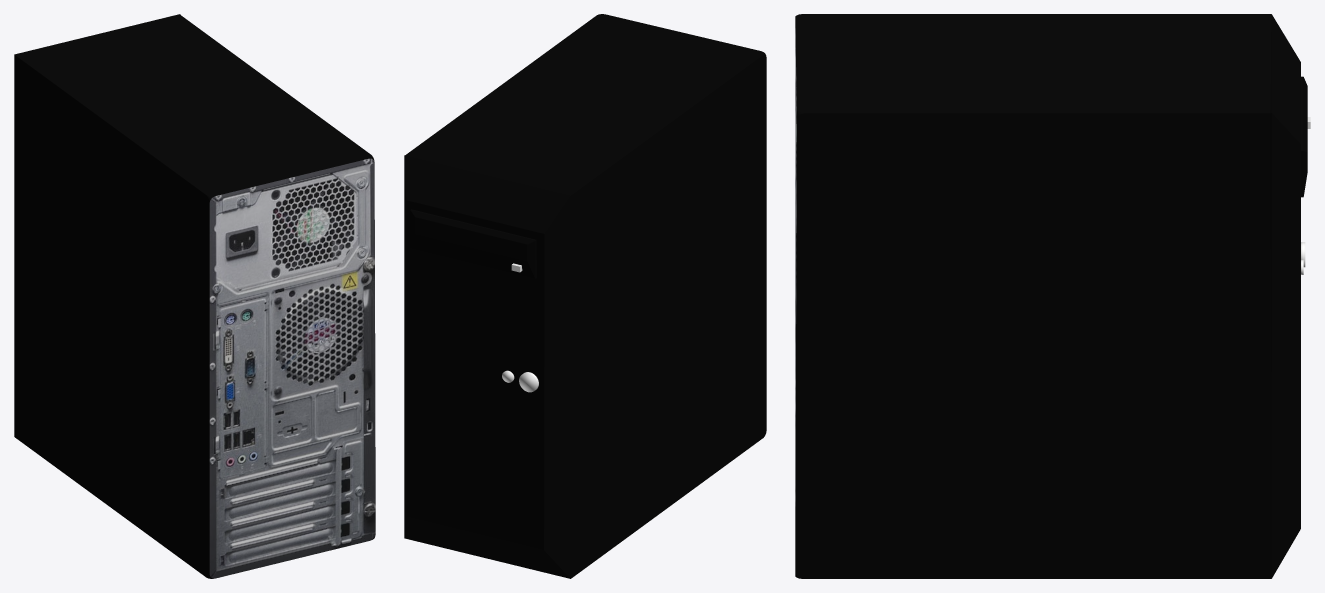
The model's file is kakutr.fbx.
3 renders of one model, left to right at view 1: azimuth 30°, elevation 25°; view 2: azimuth 150°, elevation 25°; view 3: azimuth 270°, elevation 25°, orthographic. The views are drawn at different scales.
Parts seen in each view (by area): view 1: Cube; view 2: Cube; view 3: Cube.
Boxes of the visible parts, left/top/right/bottom form: Cube: left=14, top=14, right=375, bottom=578; Cube: left=404, top=14, right=766, bottom=578; Cube: left=795, top=14, right=1310, bottom=578.
Size of the model in its own units: 131 by 289 by 289.
